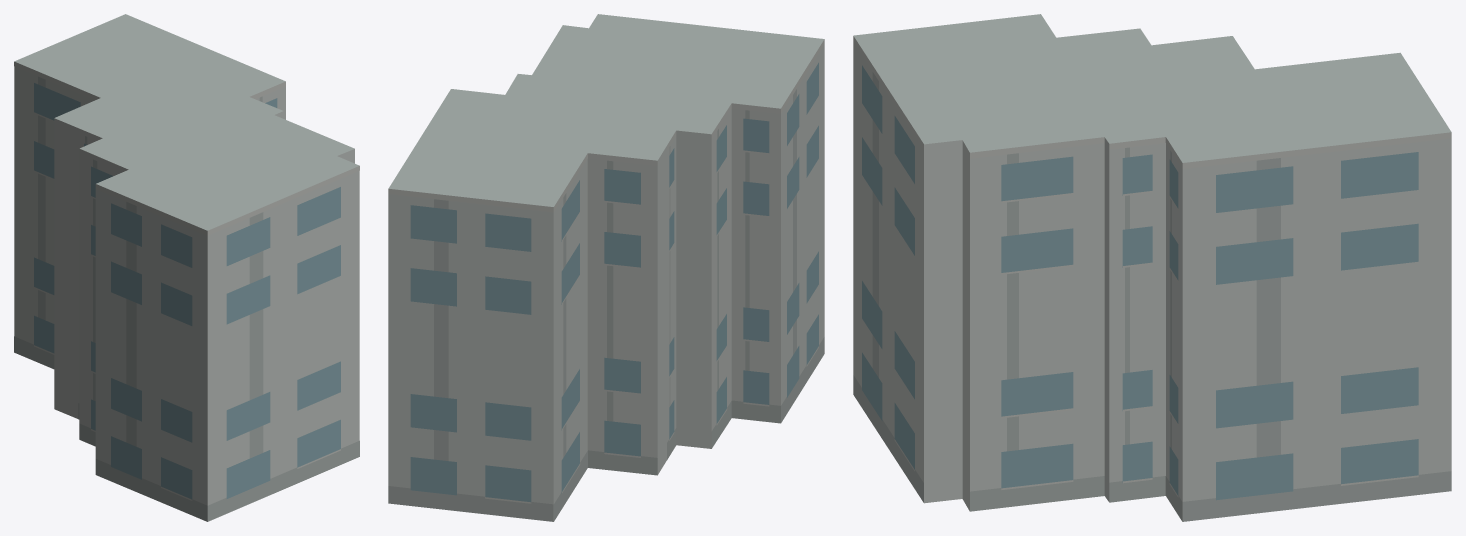
The model's file is survey-upis-32933558.glb.
3 renders of one model, left to right at view 1: azimuth 30°, elevation 25°; view 2: azimuth 150°, elevation 25°; view 3: azimuth 270°, elevation 25°, orthographic. The views are drawn at different scales.
Parts seen in each view (by area): view 1: survey-upis-32933558.tmp; view 2: survey-upis-32933558.tmp; view 3: survey-upis-32933558.tmp.
Part boxes in pixels (left/top/right/bottom): survey-upis-32933558.tmp: left=14, top=14, right=359, bottom=521; survey-upis-32933558.tmp: left=388, top=14, right=824, bottom=521; survey-upis-32933558.tmp: left=853, top=14, right=1451, bottom=521.
Bounding box in the file's own units: 12.65 × 14.2 × 21.47.
